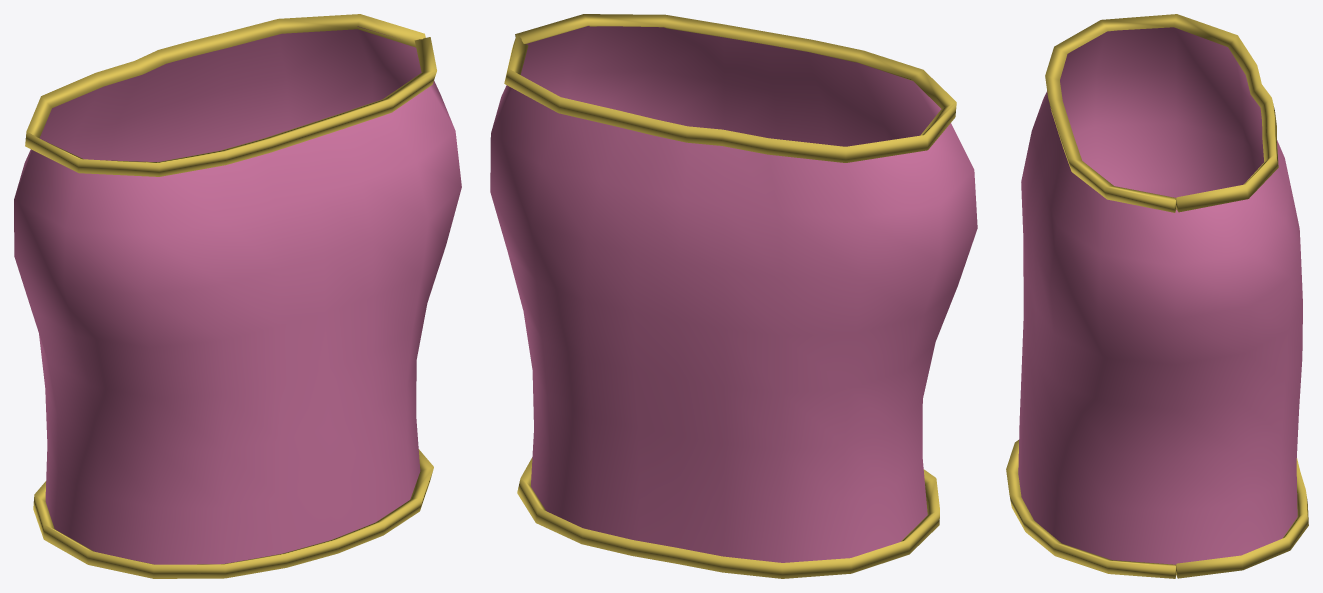
The model's file is princess_outfit_chest.glb.
The picture shows the model from 3 angles, left to right: view 1: azimuth 30°, elevation 25°; view 2: azimuth 150°, elevation 25°; view 3: azimuth 270°, elevation 25°; orthographic projection. The views are drawn at different scales.
Parts seen in each view (by area): view 1: princess_outfit_chest; view 2: princess_outfit_chest; view 3: princess_outfit_chest.
Boxes of the visible parts, left/top/right/bottom form: princess_outfit_chest: left=14, top=14, right=461, bottom=578; princess_outfit_chest: left=490, top=14, right=977, bottom=578; princess_outfit_chest: left=1006, top=14, right=1308, bottom=578.
Size of the model in its own units: 0.4168 by 0.3859 by 0.2708.
